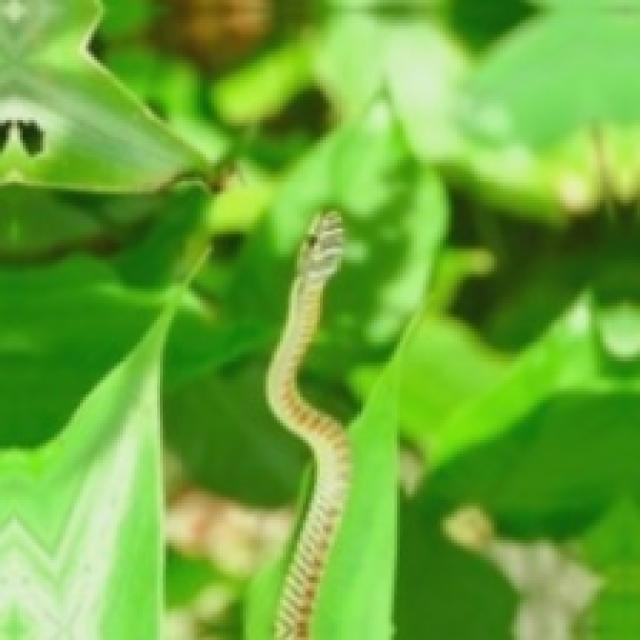paradise tree snake: (266, 211, 349, 637)
